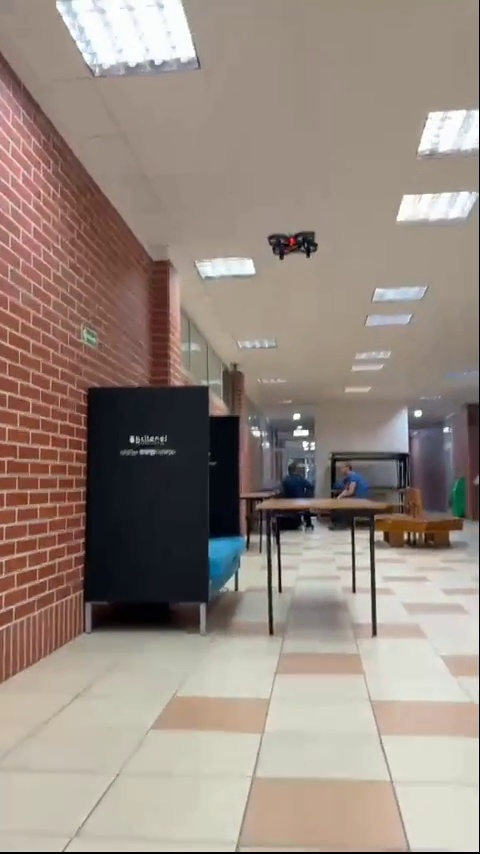drone: (266, 232, 319, 262)
no vest: (327, 455, 364, 503), (279, 461, 316, 502)
